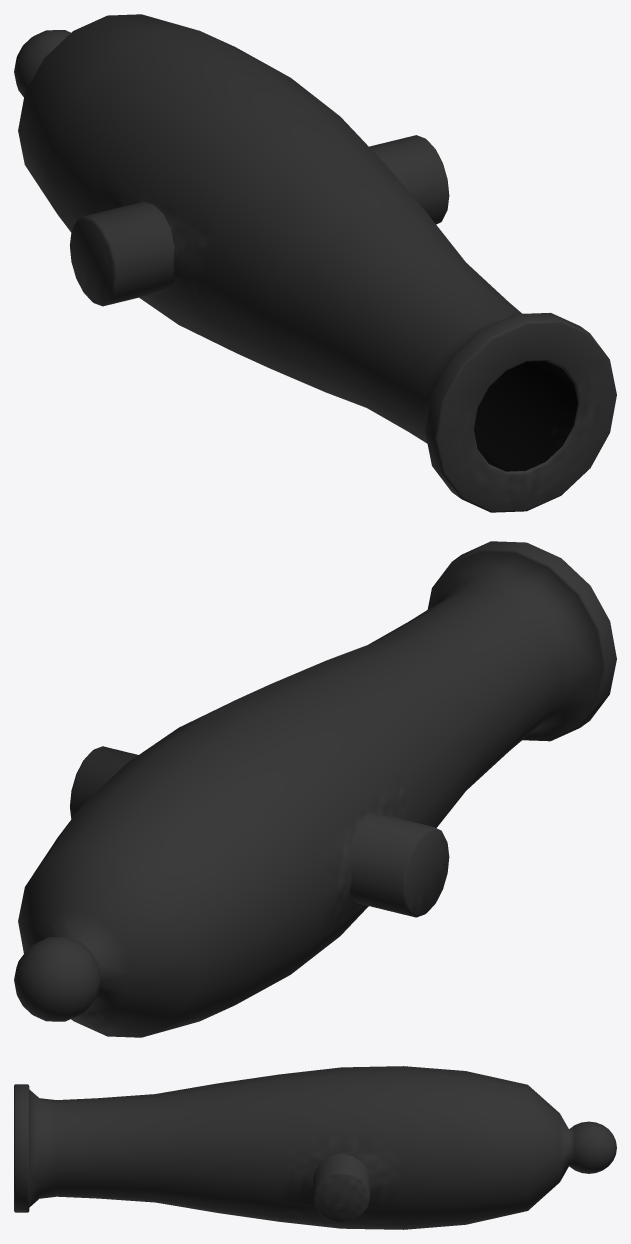
Rendered from cannon_barrel.glb.
3 views of the same model, one above another, from view 1: azimuth 30°, elevation 25°; view 2: azimuth 150°, elevation 25°; view 3: azimuth 270°, elevation 25° (orthographic). The views are drawn at different scales.
Visible parts, largest first — view 1: cannon; view 2: cannon; view 3: cannon.
Part boxes in pixels (x1,y1,x2,y2): cannon: (14, 14, 616, 512); cannon: (14, 541, 616, 1037); cannon: (14, 1066, 616, 1229).
Size of the model in its own units: 0.6343 by 0.4378 by 1.61.
Materials: 1 (1 with a texture image).
